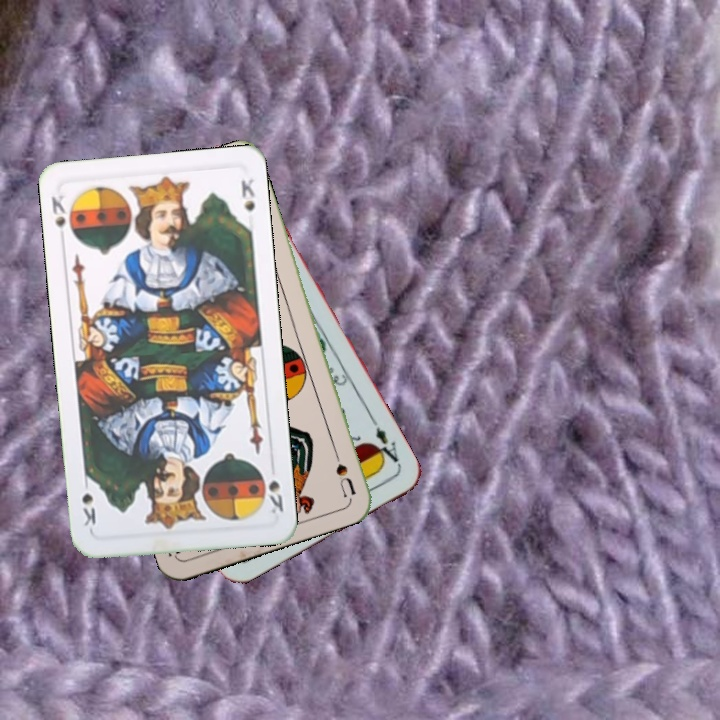EA: (368, 416, 404, 470)
SK: (257, 467, 286, 518), (47, 191, 68, 246)
SU: (328, 440, 360, 499)
